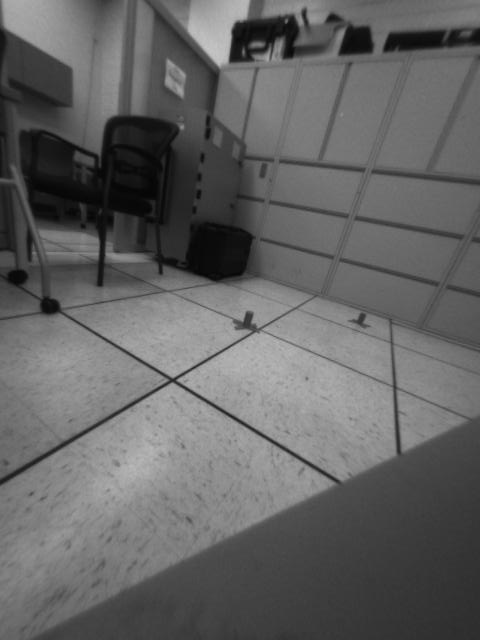X: (229, 311, 262, 335), (348, 312, 375, 330)
